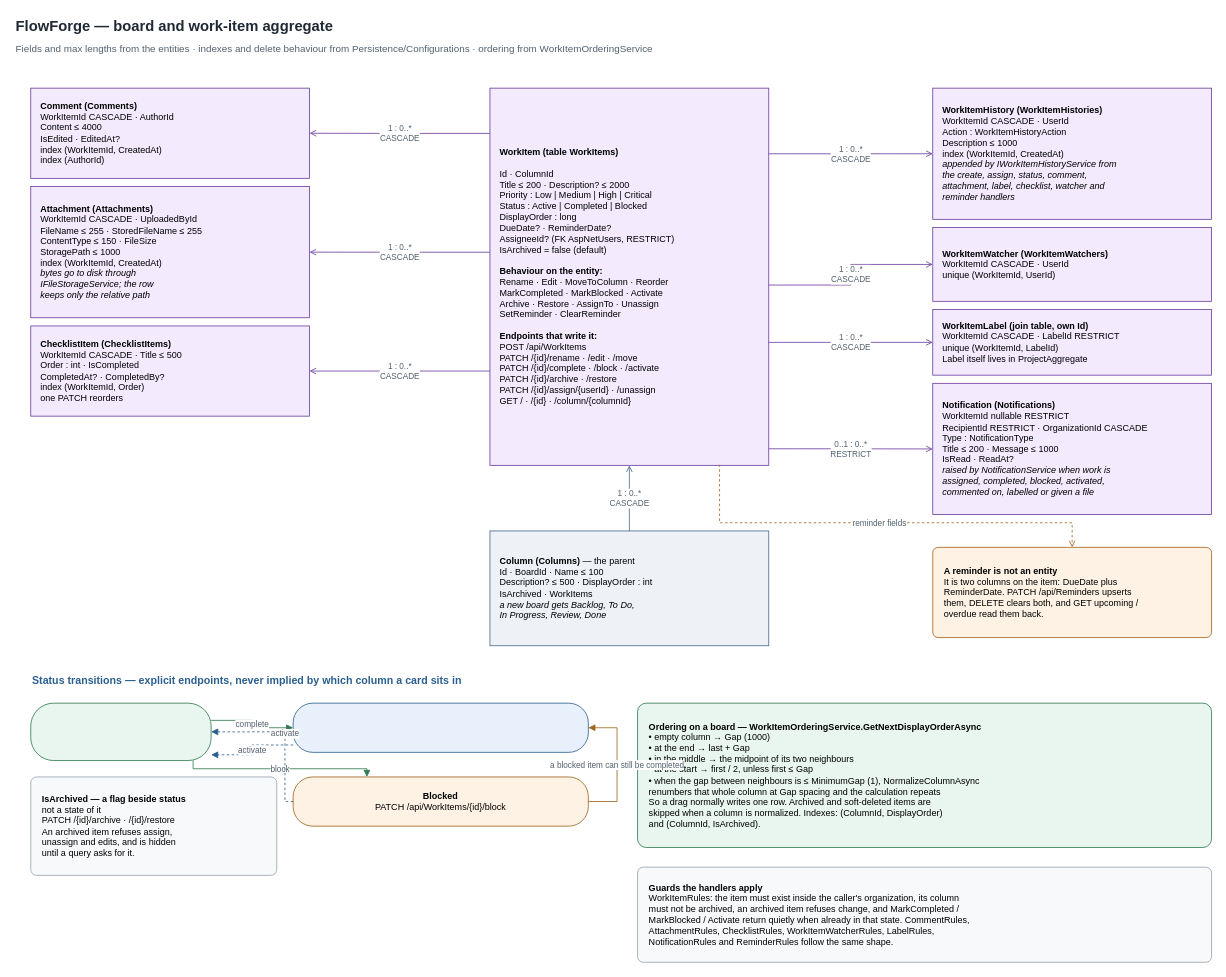
Image size: 1226x977. Some labels were removed from this diagram. The shapes that lost their labels are listed below. From the top down, each one's centre as x and y in pixels, then its label:
At (x=120, y=731): "Active set by the constructor".
At (x=440, y=727): "Completed PATCH /api/WorkItems/{id}/complete".
